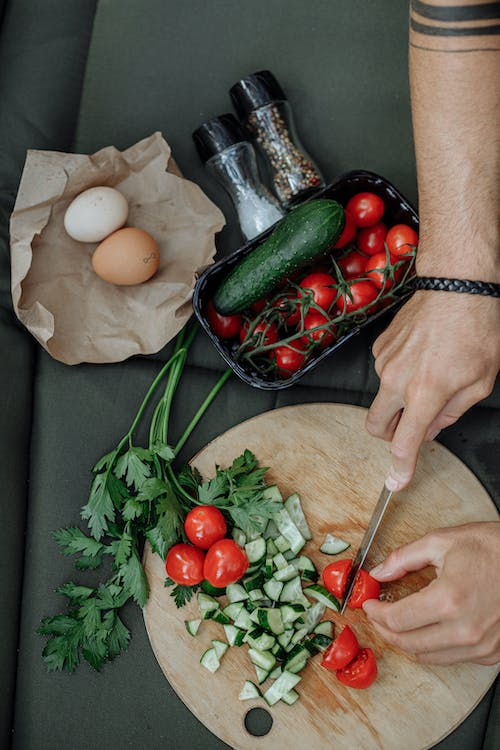knife: (338, 482, 395, 616)
